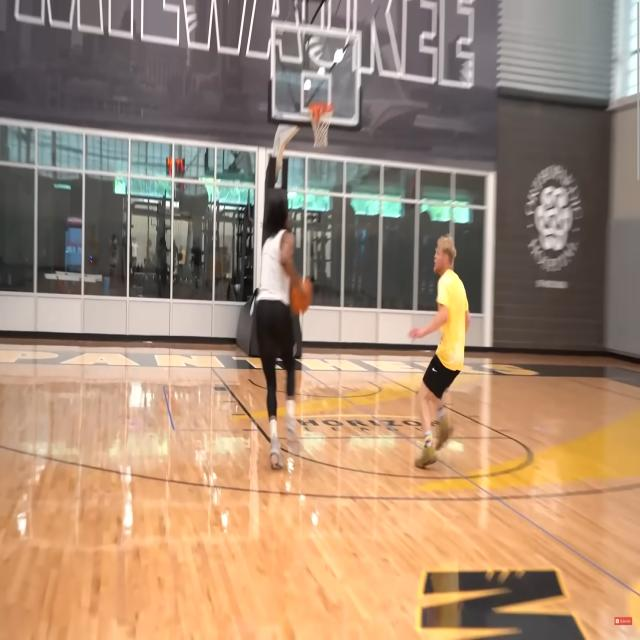Basketball: (290, 276, 314, 314)
Basketball Rim: (309, 102, 334, 149)
Player: (257, 192, 313, 480), (408, 230, 471, 468)
